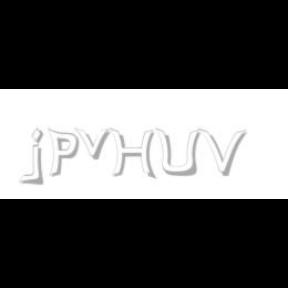H: (110, 128, 156, 180)
P: (47, 128, 79, 178)
U: (154, 128, 200, 178)
V: (199, 128, 247, 176)
j: (28, 128, 58, 186)
v: (74, 128, 114, 160)
